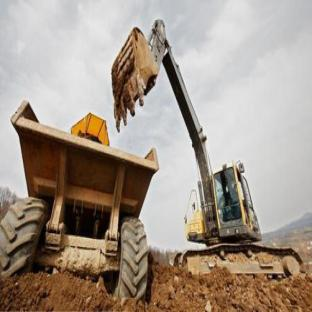ExcavationMachinery: (86, 17, 304, 290)
